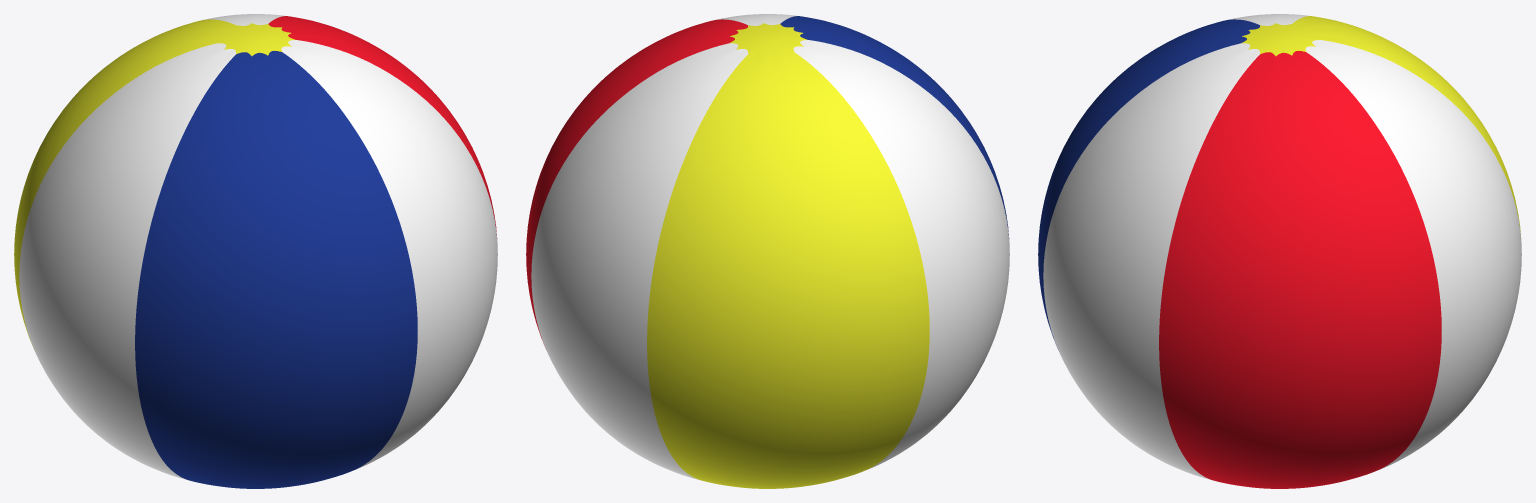
File: meteorito.FBX
The picture shows the model from 3 angles, left to right: view 1: azimuth 30°, elevation 25°; view 2: azimuth 150°, elevation 25°; view 3: azimuth 270°, elevation 25°; orthographic projection.
Parts seen in each view (by area): view 1: Sphere002; view 2: Sphere002; view 3: Sphere002.
Part boxes in pixels (x1=…): Sphere002: x1=14, y1=14, x2=497, y2=488; Sphere002: x1=526, y1=14, x2=1009, y2=488; Sphere002: x1=1038, y1=14, x2=1521, y2=488.
Bounding box in the file's own units: 18.45 × 18.22 × 18.45.
